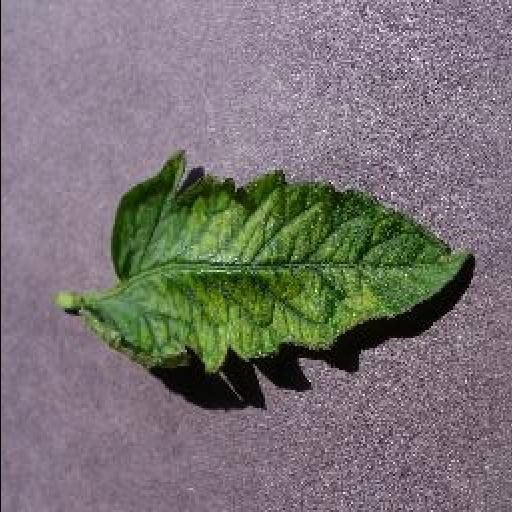Mosaic Virus: (82, 140, 476, 374)
